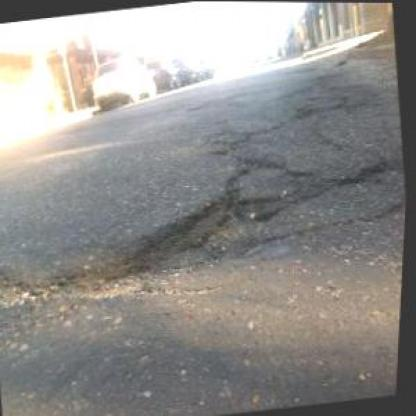pothole: (66, 180, 286, 305), (0, 270, 65, 312)
